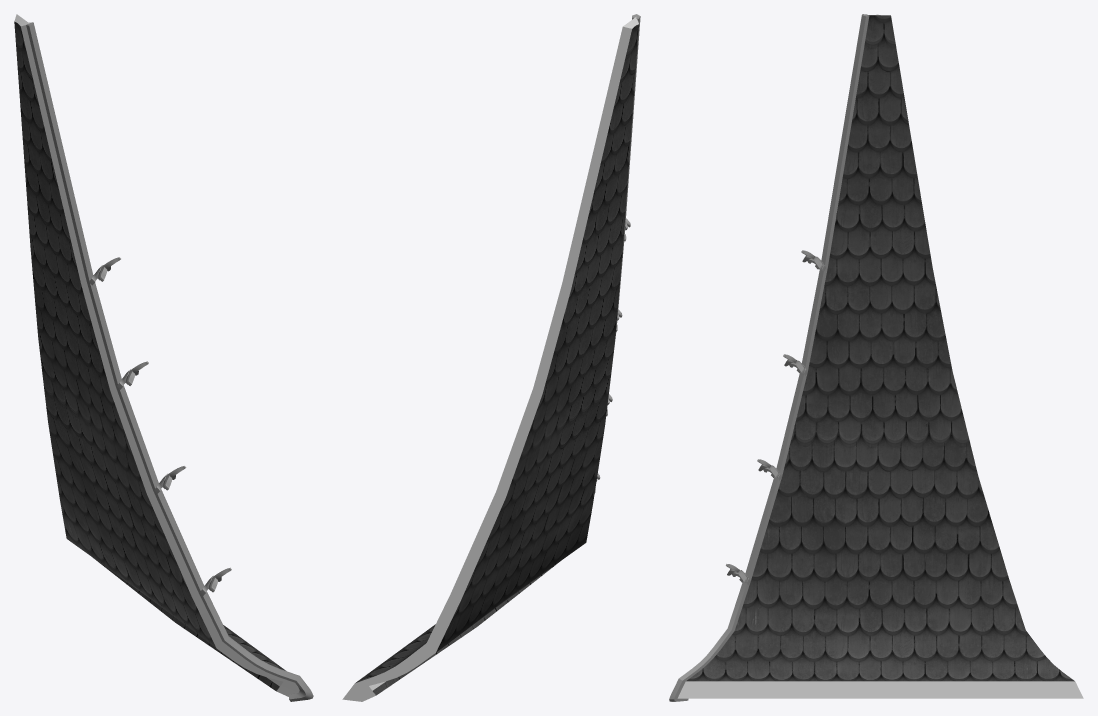
Rendered from SM_Roof_B_001.FBX.
3 renders of one model, left to right at view 1: azimuth 30°, elevation 25°; view 2: azimuth 150°, elevation 25°; view 3: azimuth 270°, elevation 25°, orthographic. The views are drawn at different scales.
Visible parts, largest first — view 1: SM_Roof_B_001; view 2: SM_Roof_B_001; view 3: SM_Roof_B_001.
Part boxes in pixels (x1=…): SM_Roof_B_001: x1=14, y1=14, x2=313, y2=701; SM_Roof_B_001: x1=342, y1=14, x2=640, y2=701; SM_Roof_B_001: x1=669, y1=14, x2=1083, y2=701.
Bounding box in the file's own units: 423 × 1405 × 864.
